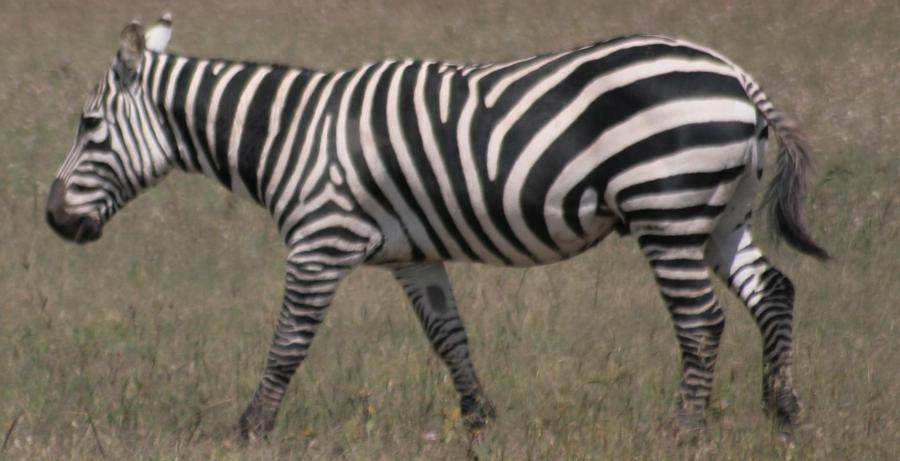zebra_plains: (237, 32, 764, 286)
